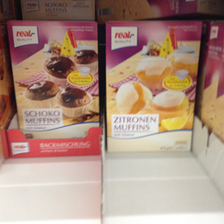cake: (104, 21, 203, 157), (6, 19, 100, 142)
